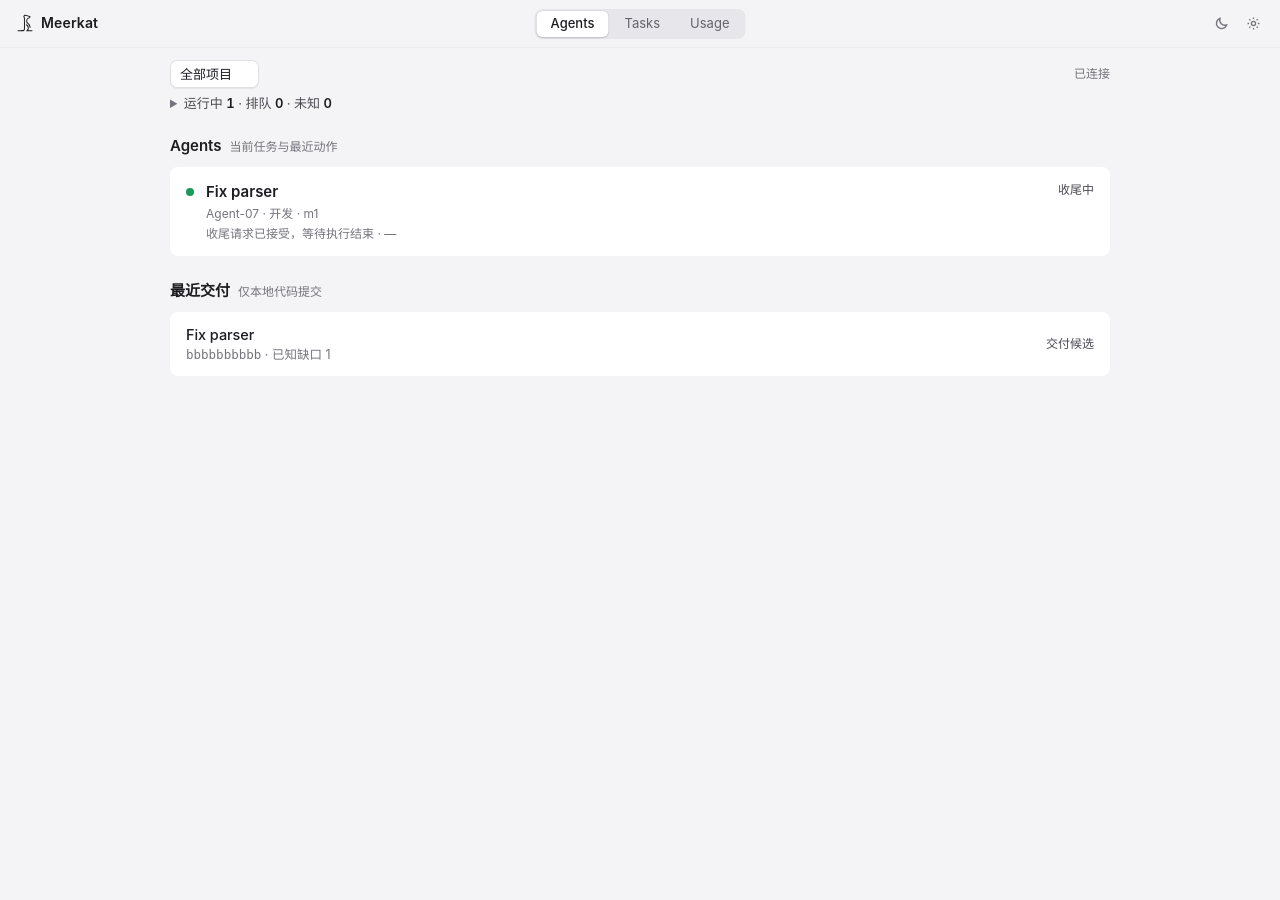
Test: App › shows wrap-up without claiming completion, and unknown budget evidence stays unknown
The image size is (1280, 900).
Expected: the text "收尾中" is shown, top-left (1058, 181), bottom-right (1094, 199)
Expected: the text "收尾请求已接受，等待执行结束" is shown, top-left (206, 226), bottom-right (374, 241)
Click the button "Tasks".
click(642, 24)  # box top-left (610, 10), bottom-right (674, 36)
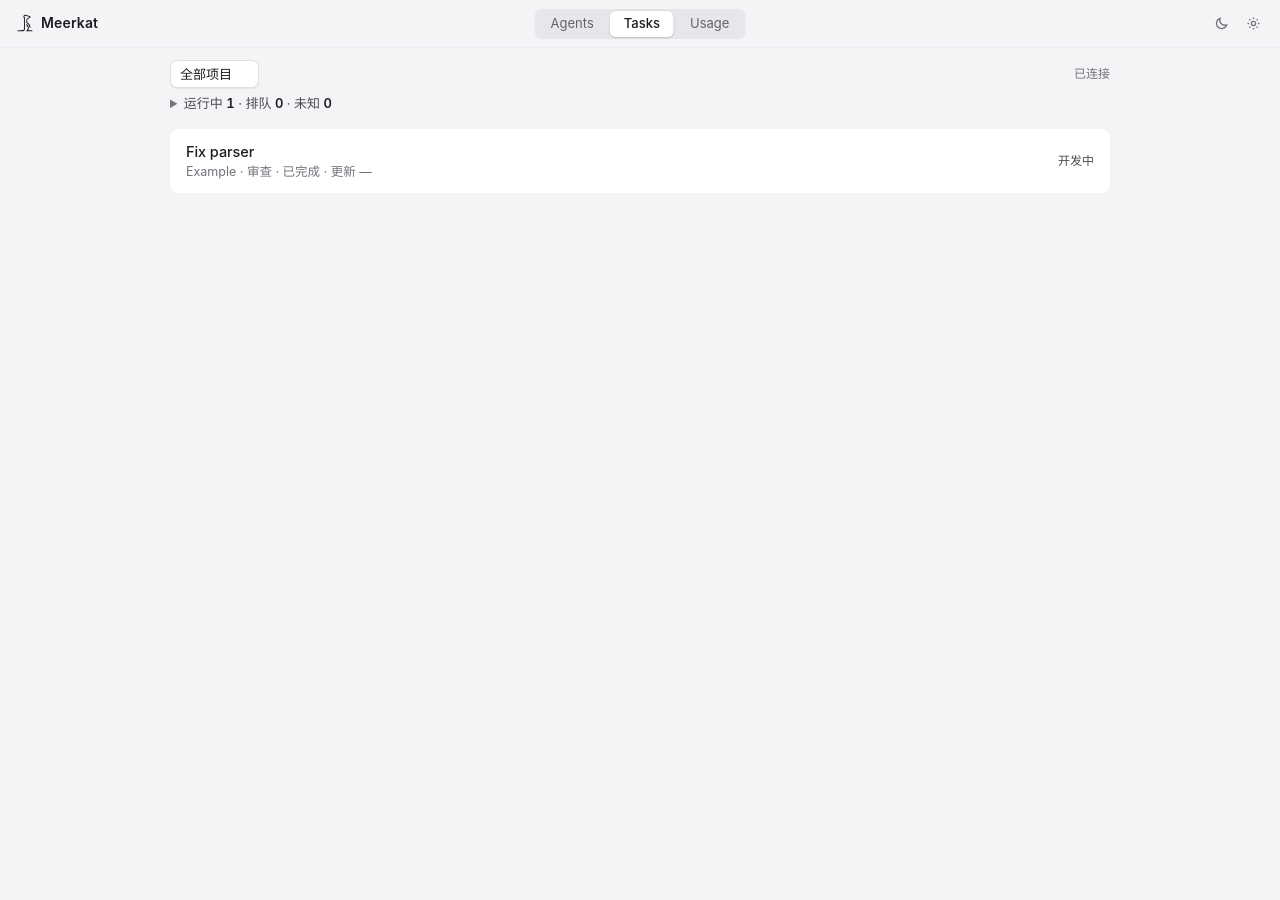
Click the text "Fix parser".
click(220, 151)  # box top-left (186, 143), bottom-right (254, 160)
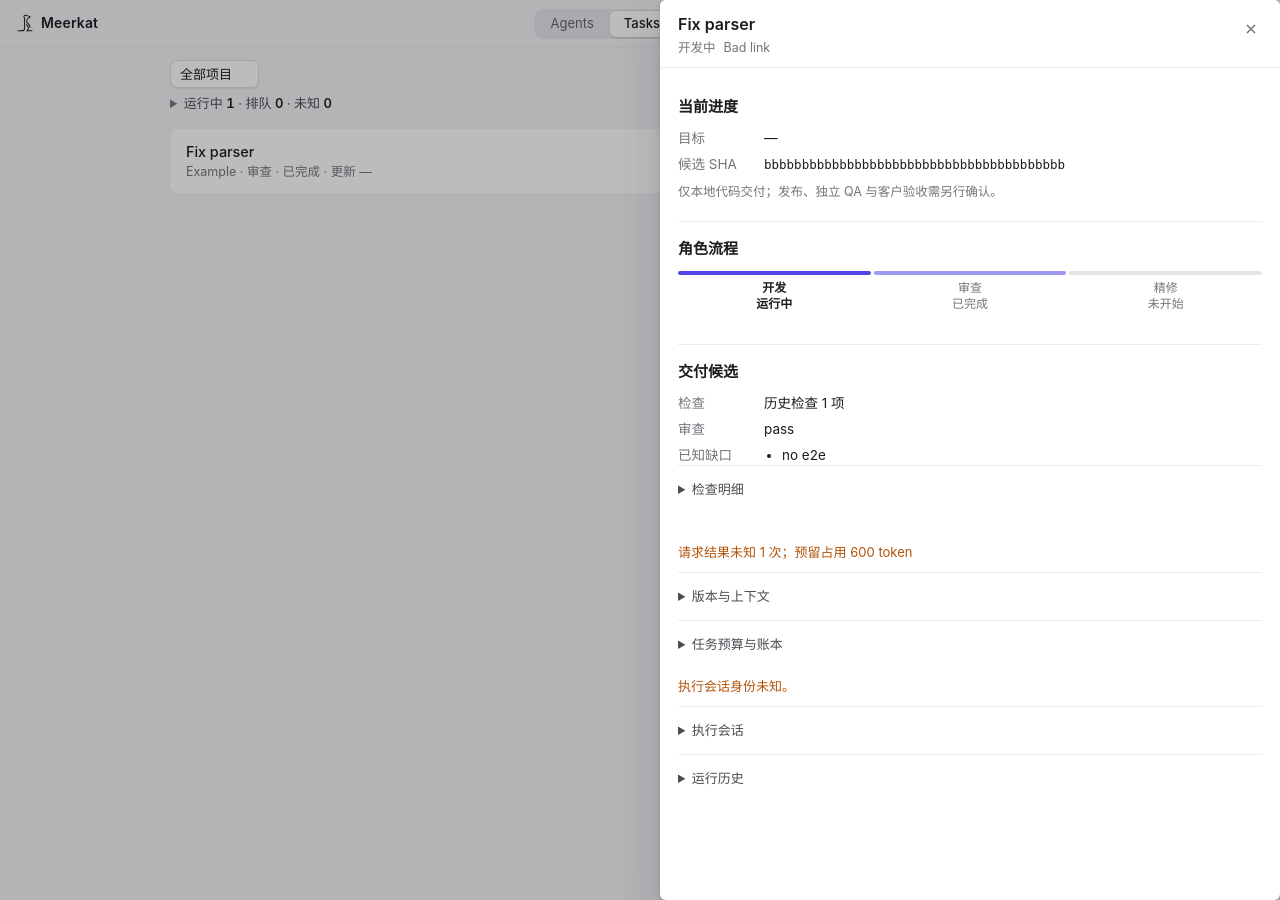
Now the dialog shows "结果未知 1", box top-left (678, 544), bottom-right (912, 560)
Now the dialog shows "身份未知", box top-left (678, 678), bottom-right (795, 694)
